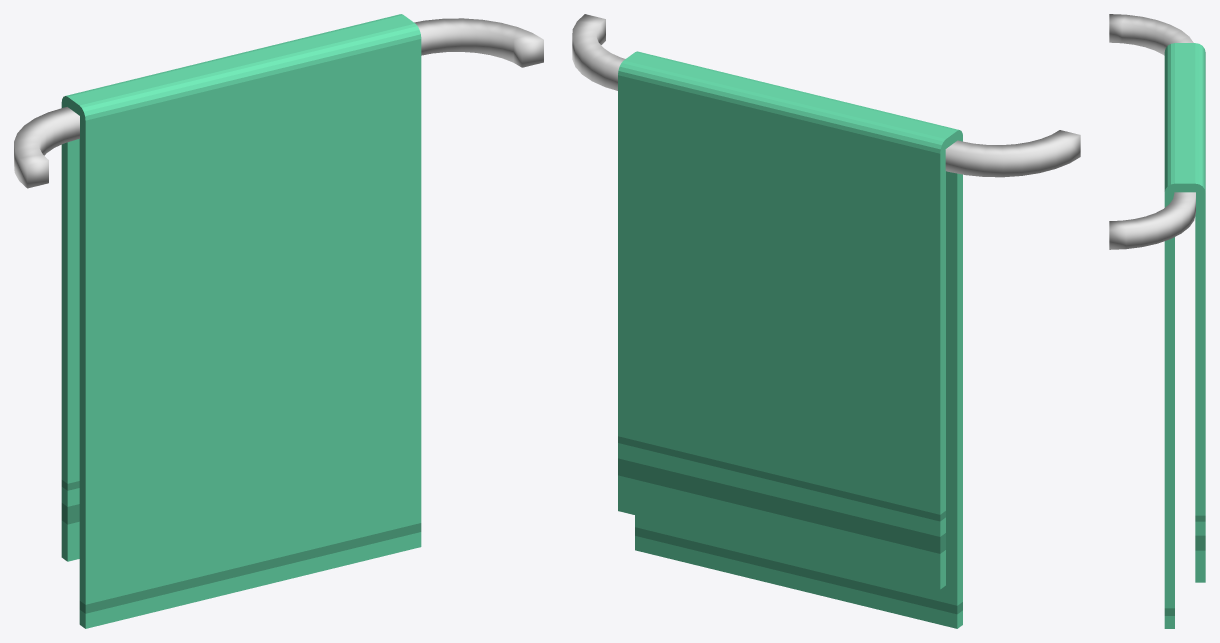
File: Toalha.fbx
The picture shows the model from 3 angles, left to right: view 1: azimuth 30°, elevation 25°; view 2: azimuth 150°, elevation 25°; view 3: azimuth 270°, elevation 25°; orthographic projection. The views are drawn at different scales.
Visible parts, largest first — view 1: Cube.001, Cube; view 2: Cube.001, Cube; view 3: Cube.001, Cube.
Boxes of the visible parts, bbox=[...] form: Cube.001: bbox=[61, 14, 421, 628]; Cube: bbox=[14, 18, 543, 188]; Cube.001: bbox=[618, 51, 962, 628]; Cube: bbox=[572, 14, 1080, 177]; Cube.001: bbox=[1164, 43, 1205, 628]; Cube: bbox=[1109, 14, 1195, 249].
Size of the model in its own units: 100 by 96 by 18.79.
